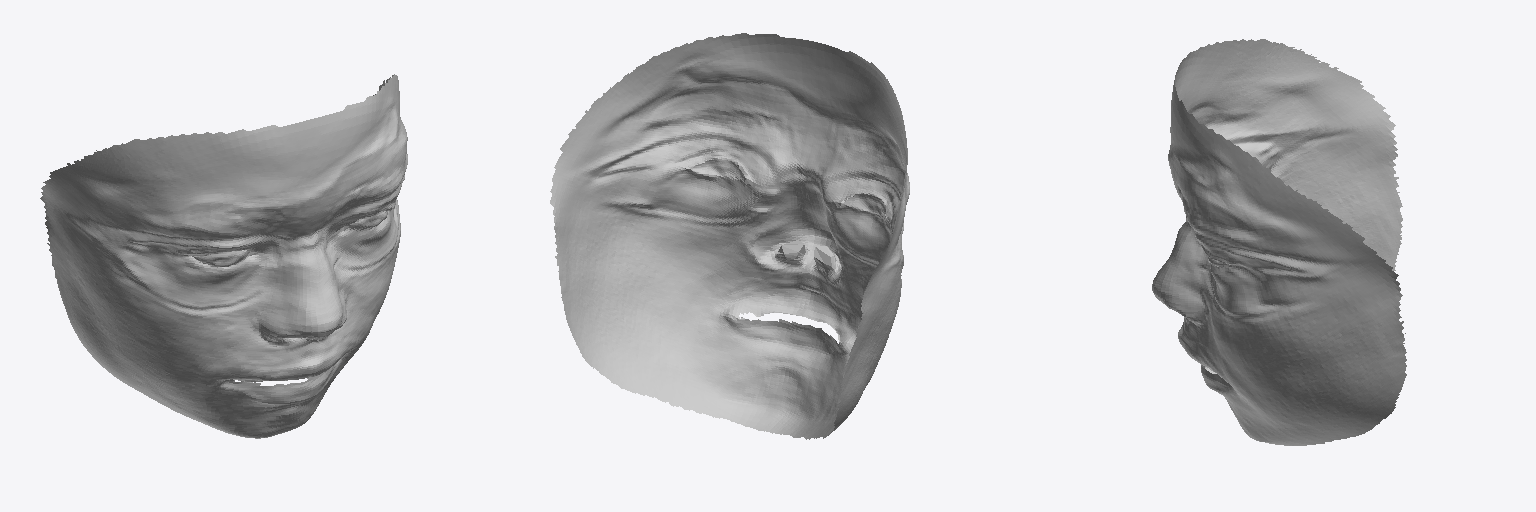
Rendered from 256x256_0_hrn_high_mesh.obj.
3 views of the same model, side by side, from view 1: azimuth 30°, elevation 25°; view 2: azimuth 150°, elevation 25°; view 3: azimuth 270°, elevation 25° (orthographic).
Bounding box in the file's own units: 1.49 × 1.52 × 0.998.